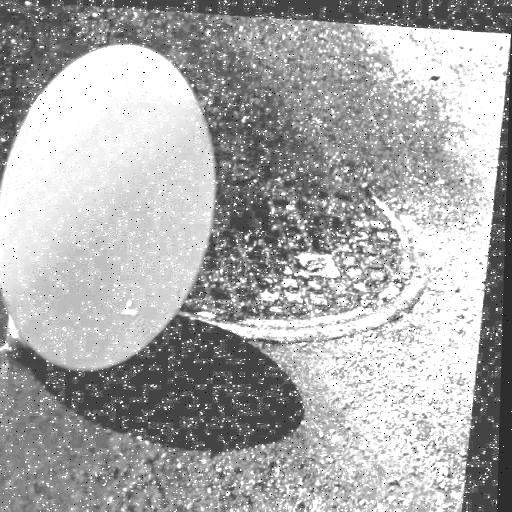balloon: (0, 36, 234, 376)
